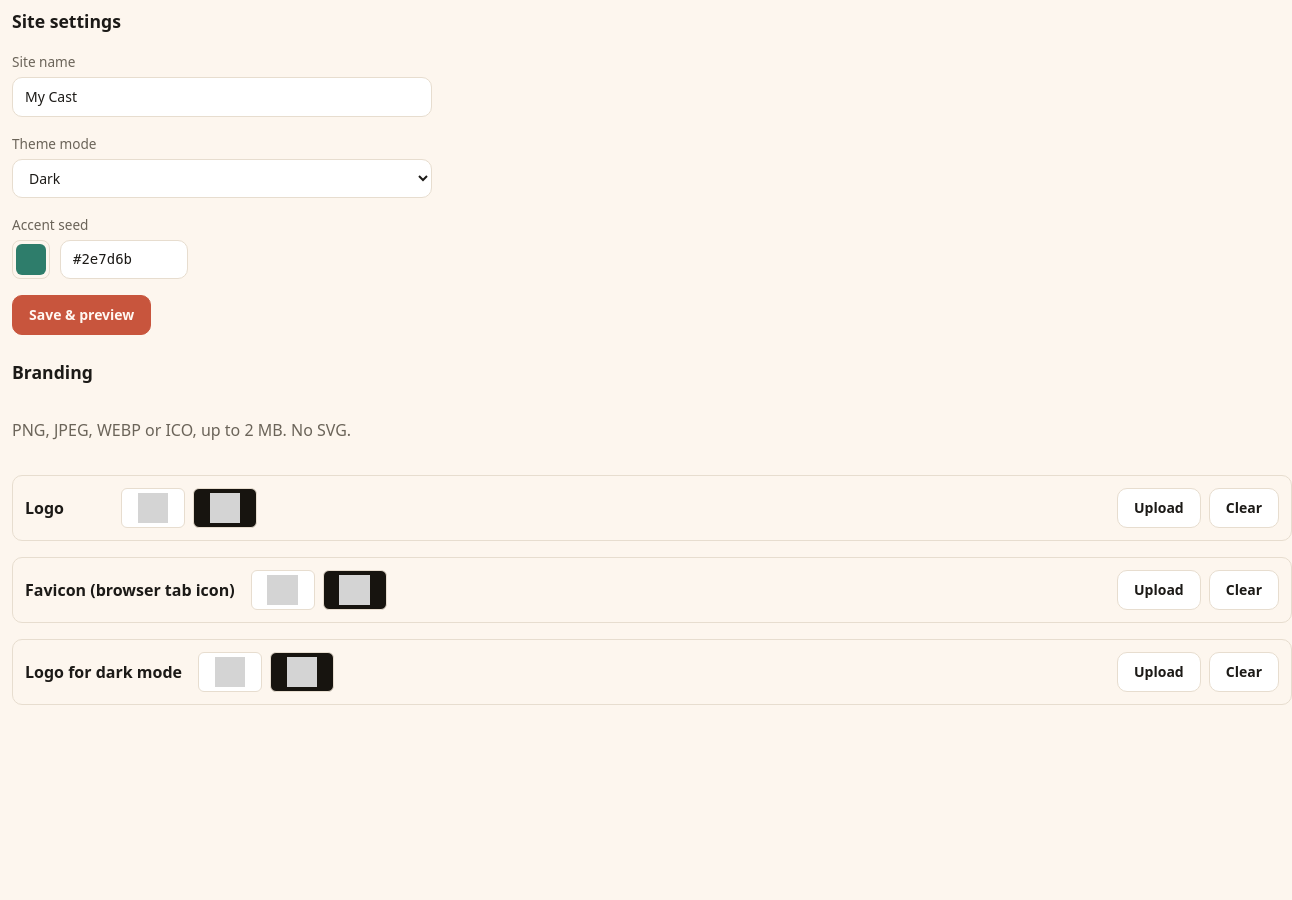
Test: AdminSite › warns while choosing an accent that would be unreadable as text (core#162)
The width and height of the screenshot is (1292, 900).
Expected: the text "hard to read as text" is not shown
Type "#fff176" into the colour field labelled "Accent seed" at point(31, 259), box [12,240,50,279]
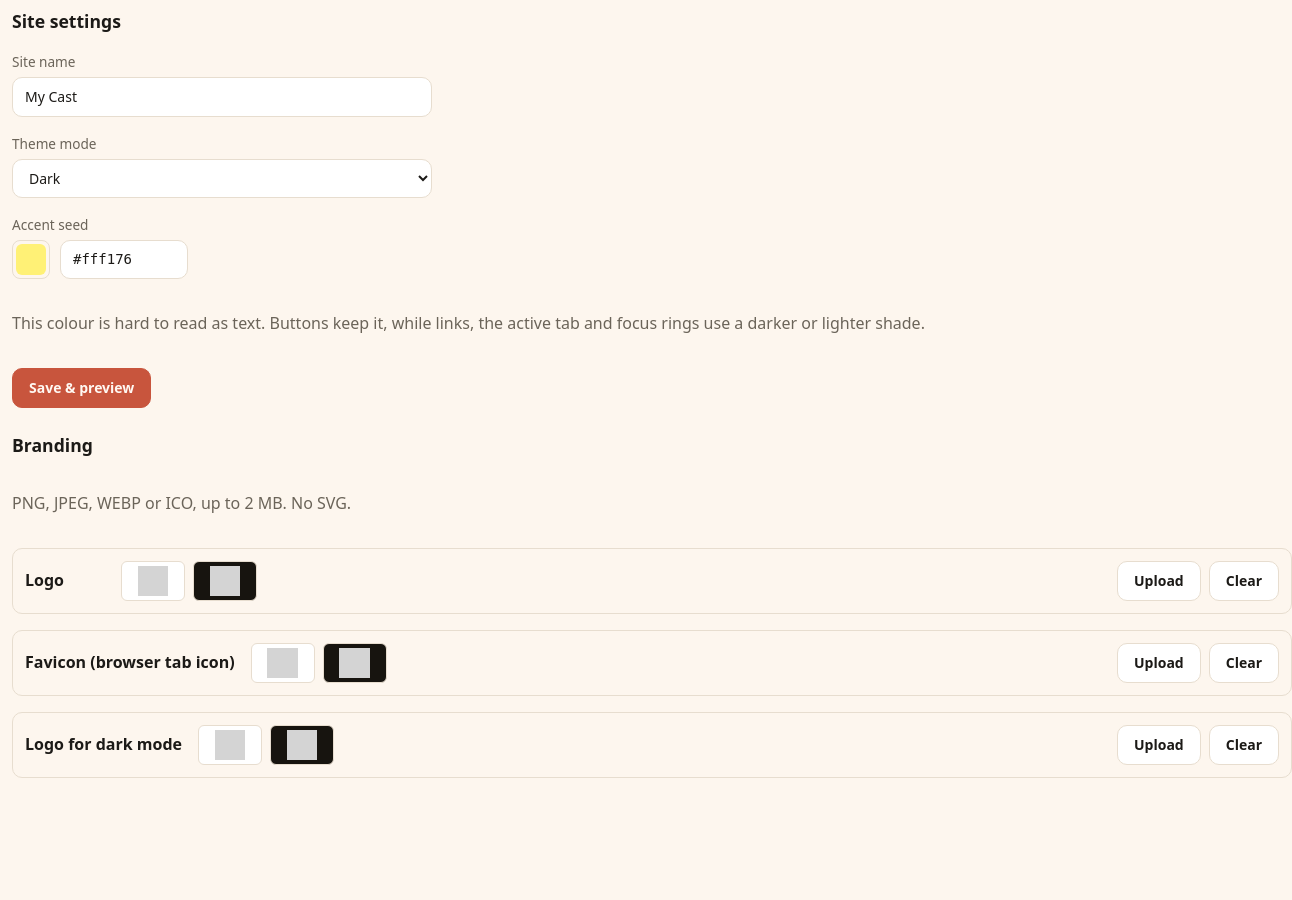
Now the text "hard to read as text" is shown, box [12,312,925,334]
